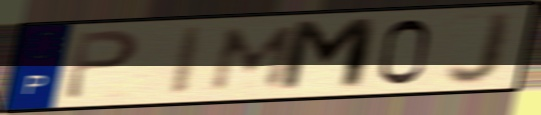0: (377, 16, 432, 87)
I: (166, 24, 210, 97)
J: (443, 10, 516, 88)
M: (275, 15, 381, 95), (205, 24, 303, 94)
P: (60, 28, 142, 103)
